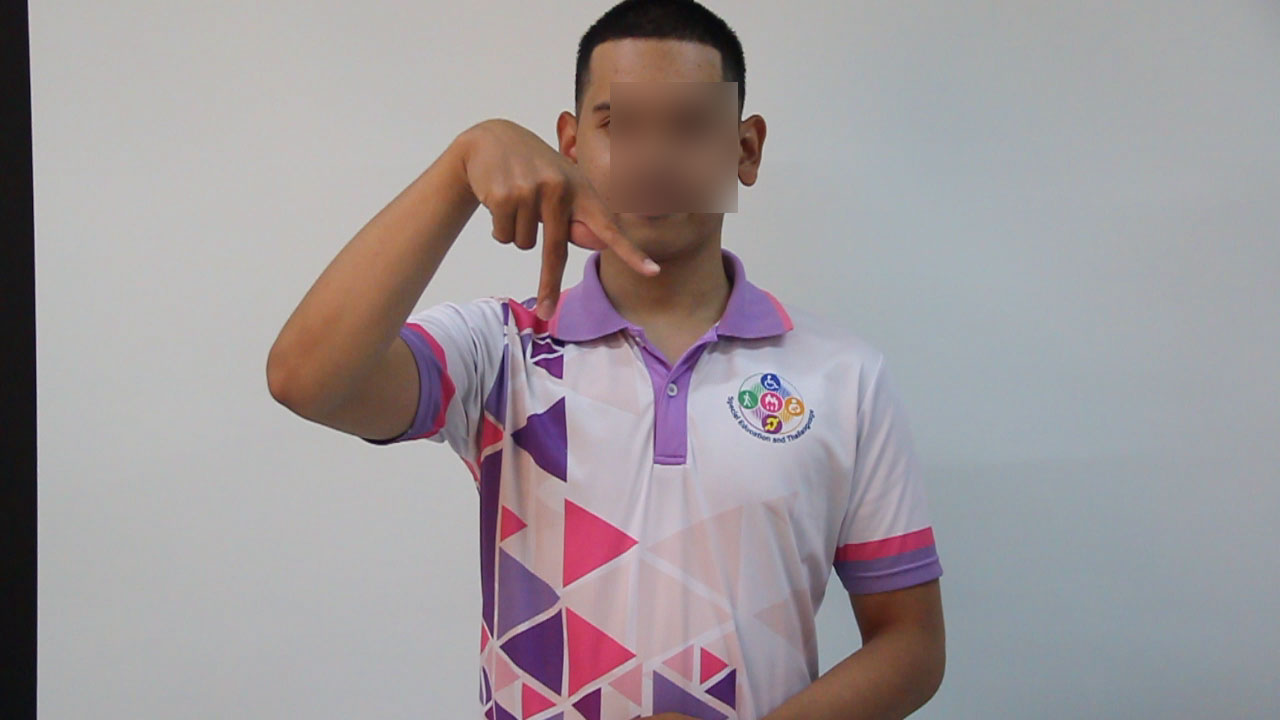por: (437, 100, 676, 339)
